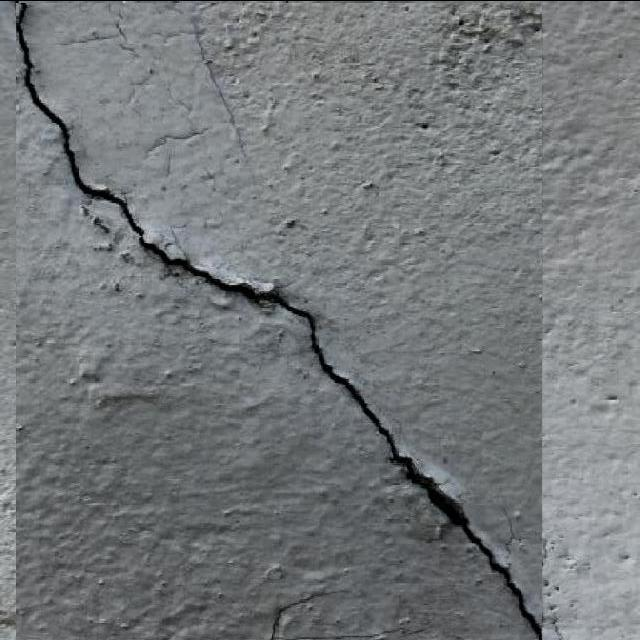crack: (14, 2, 543, 638), (215, 6, 537, 284), (29, 12, 236, 305), (14, 20, 104, 630), (21, 12, 102, 213), (13, 33, 26, 631)
